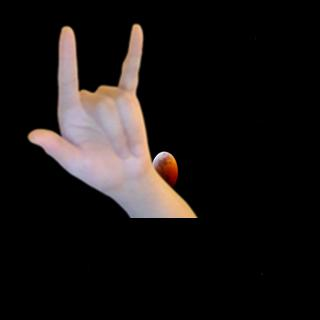ILY: (21, 19, 163, 196)
